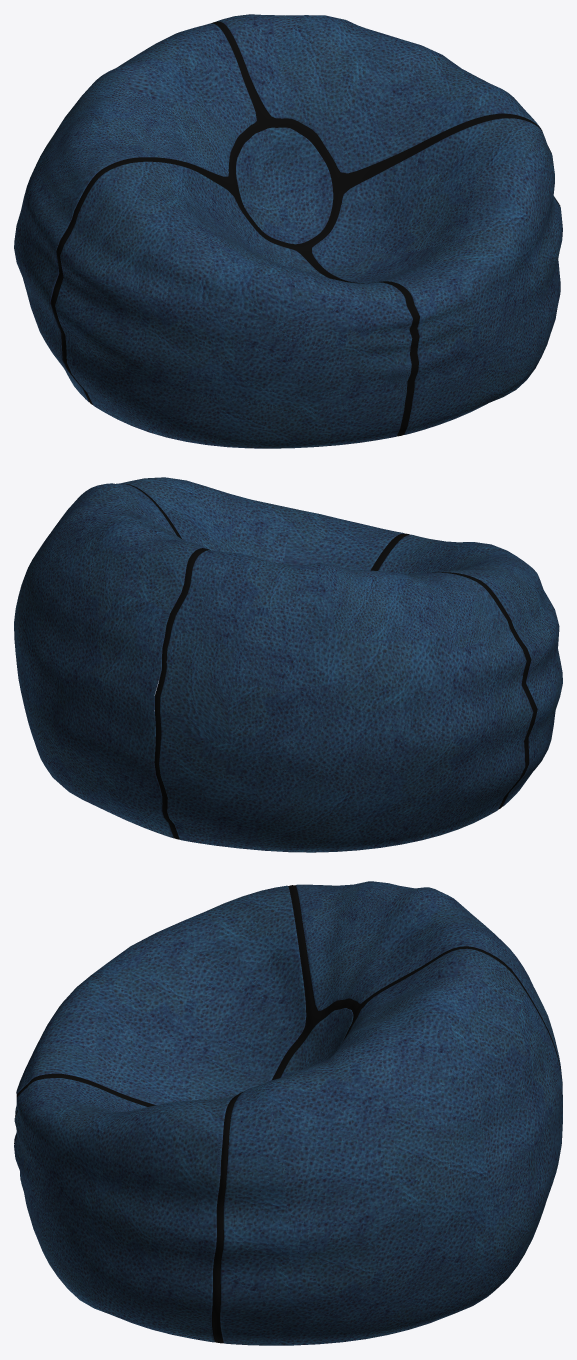
The model's file is pouf.glb.
3 views of the same model, one above another, from view 1: azimuth 30°, elevation 25°; view 2: azimuth 150°, elevation 25°; view 3: azimuth 270°, elevation 25° (orthographic). The views are drawn at different scales.
Parts seen in each view (by area): view 1: beanbag; view 2: beanbag; view 3: beanbag.
Part boxes in pixels (x1,y1,x2,y2): beanbag: (14,14,562,448); beanbag: (14,477,562,852); beanbag: (14,881,562,1345).
Bounding box in the file's own units: 42.22 × 22.22 × 37.82.
Materials: 2 (2 with a texture image).
